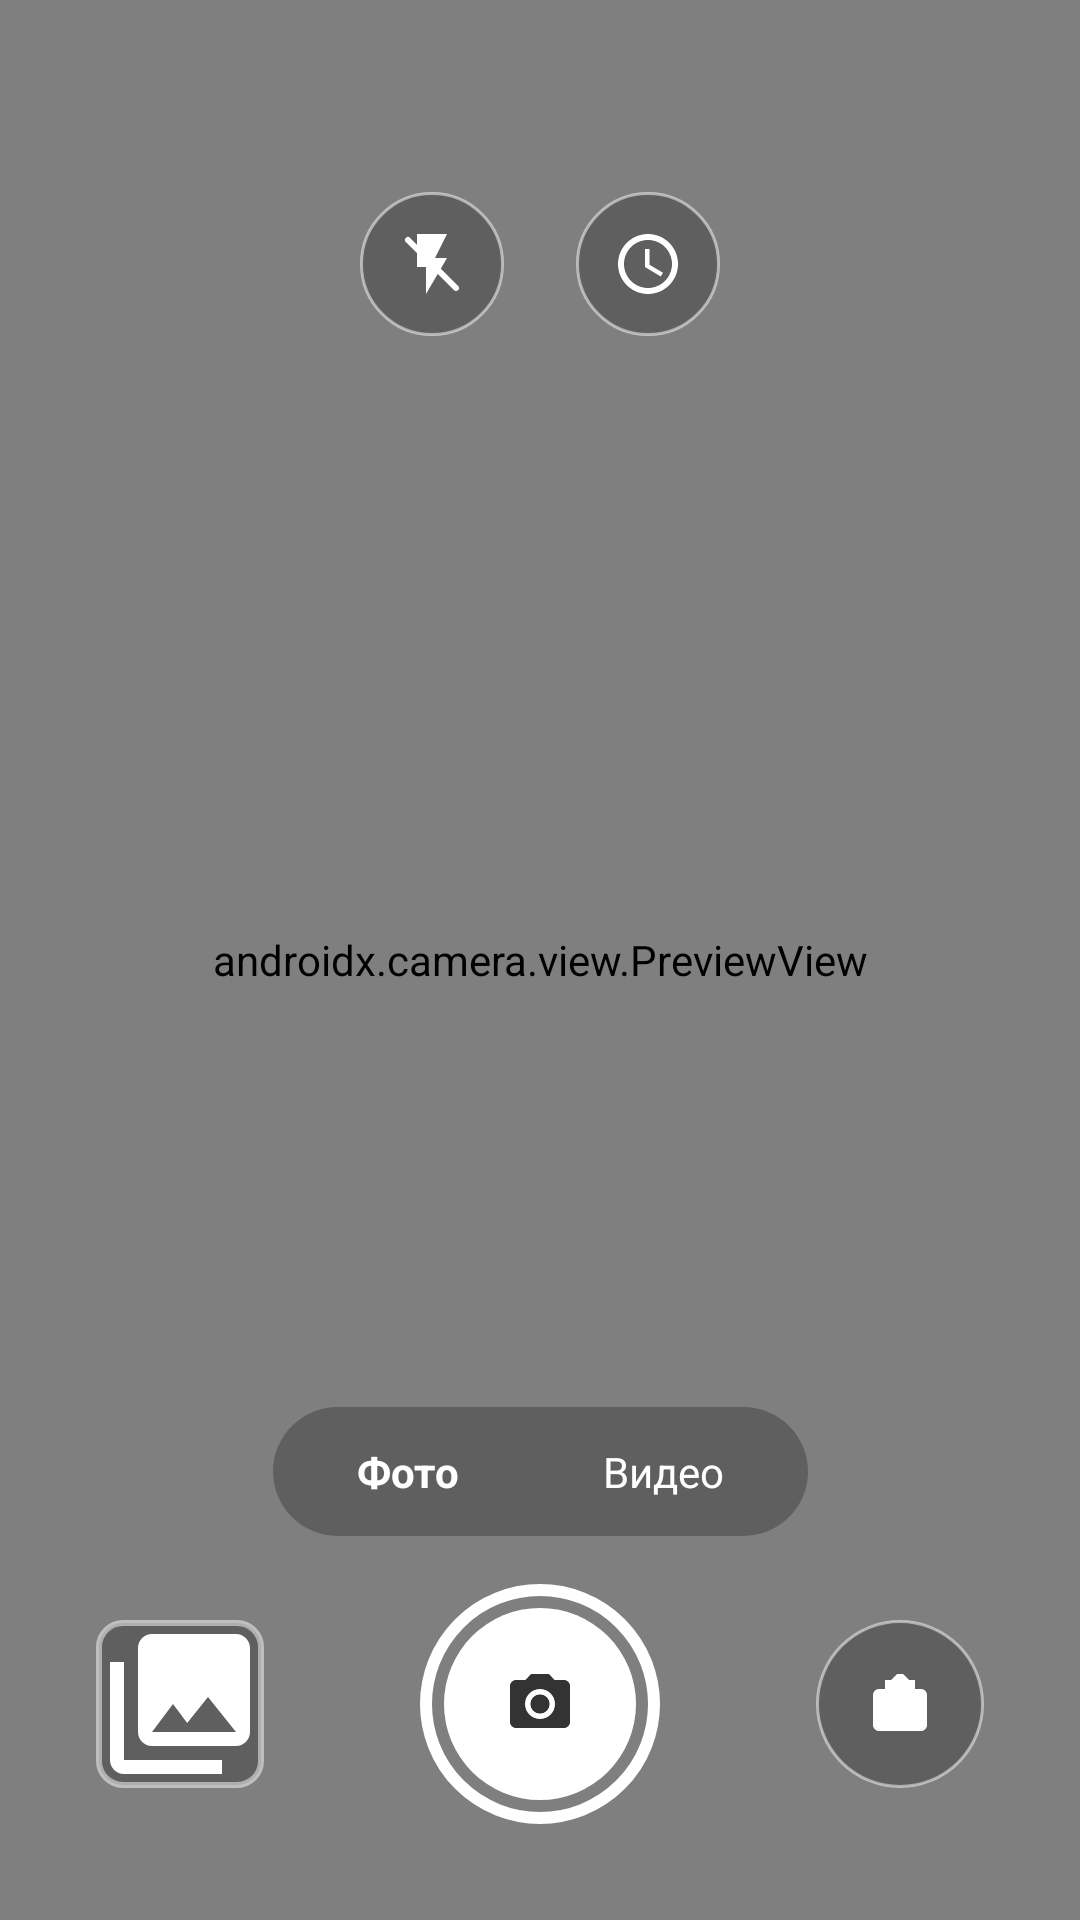

Where to tap for icons on this 1080 × 1920 app screen, as point (x, y):
Вспышка: point (432, 264)
Галерея: point (180, 1704)
Съемка: point (540, 1704)
Таймер: point (648, 264)
